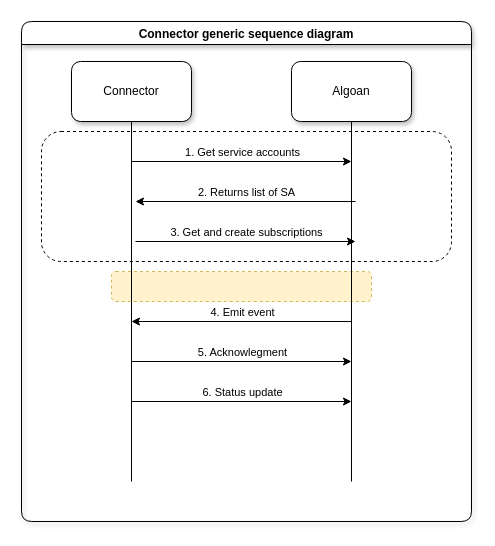
Some shapes in this 495 by 546 pixel diagram are drawn without their labels. Here are the shapes that lost their labels. From the top down, the centre of each, then its label:
At (x=246, y=196): "Before start".
At (x=241, y=286): "Application started".
